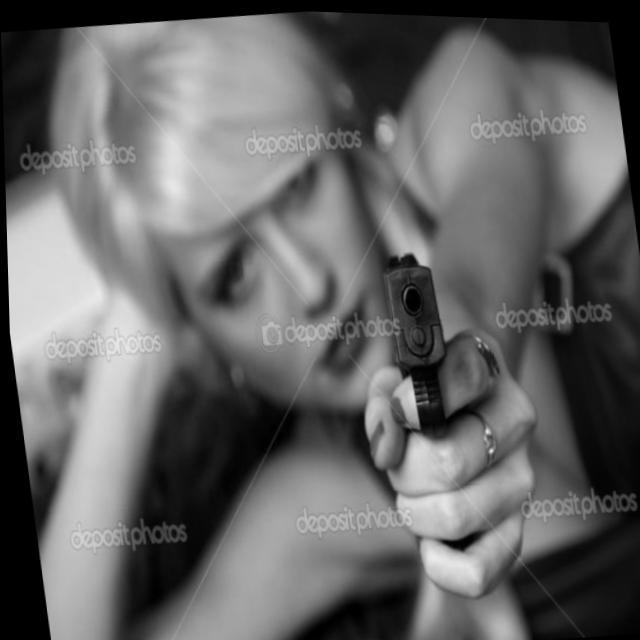weapon: (373, 243, 458, 440)
